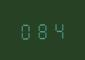eight: (35, 20, 50, 39)
four: (51, 19, 66, 39)
zero: (18, 20, 33, 40)
